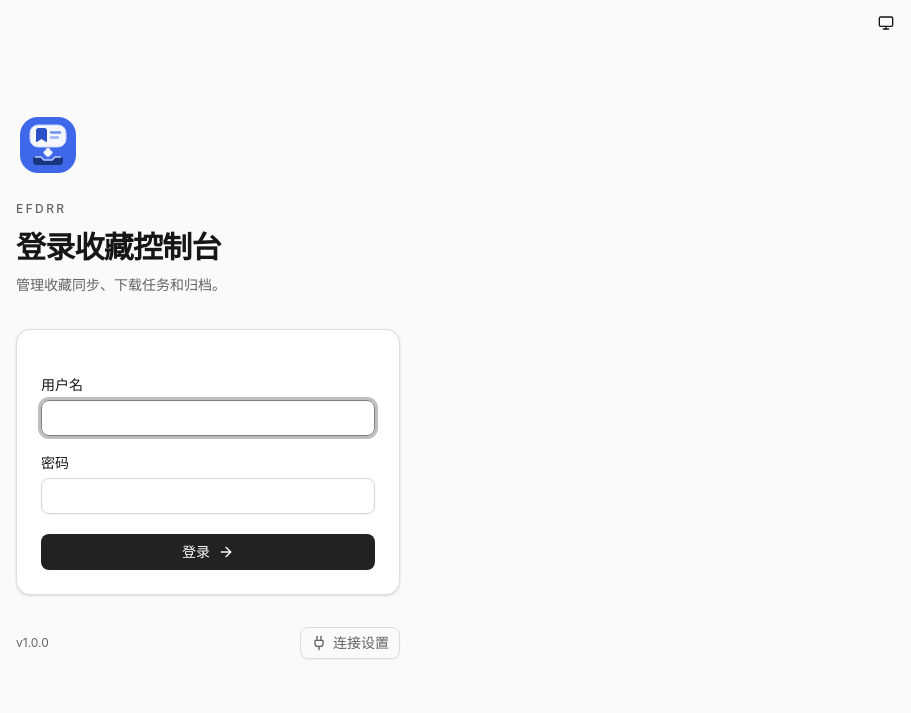
Test: failed login remains on the form
In the field labelled "用户名": point(208, 418) 41,400 -> 375,436, type "admin"
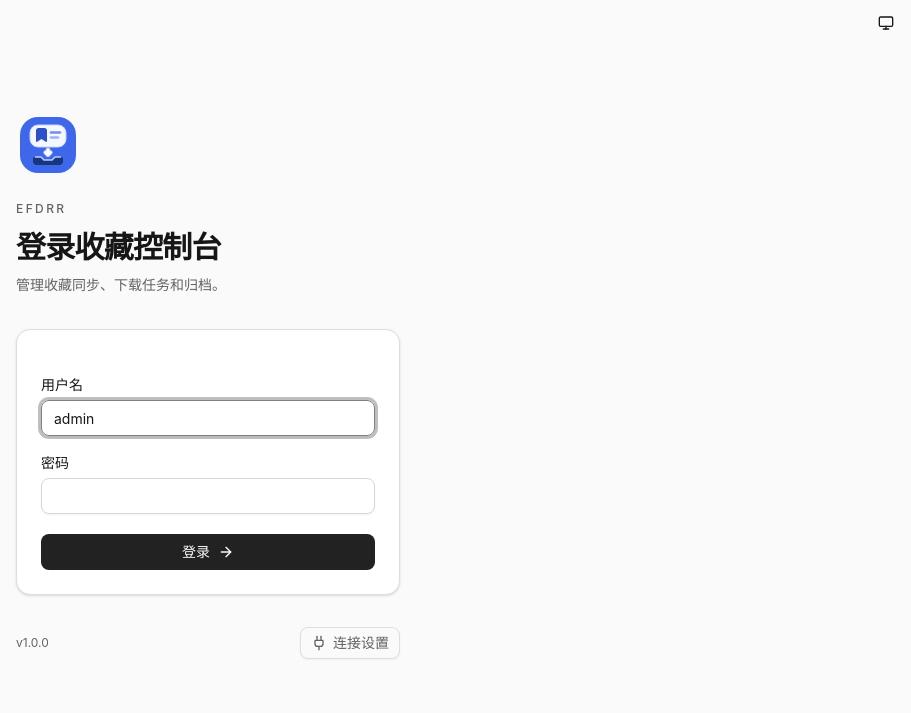
In the password field labelled "密码": point(208, 496) 41,478 -> 375,514, type "wrong"
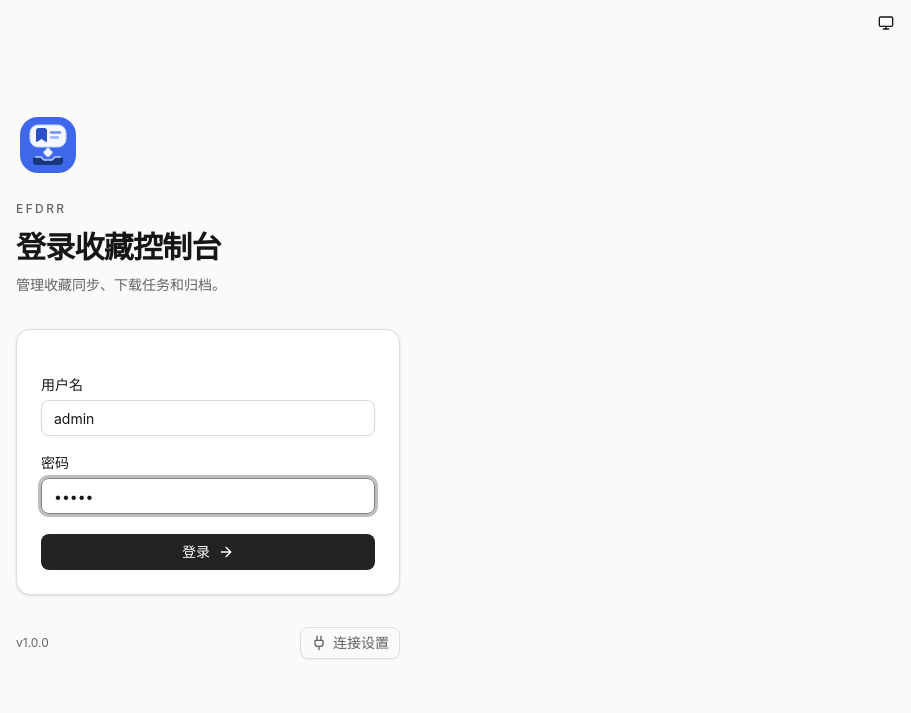
Click the button "登录": point(208, 552) 41,534 -> 375,570
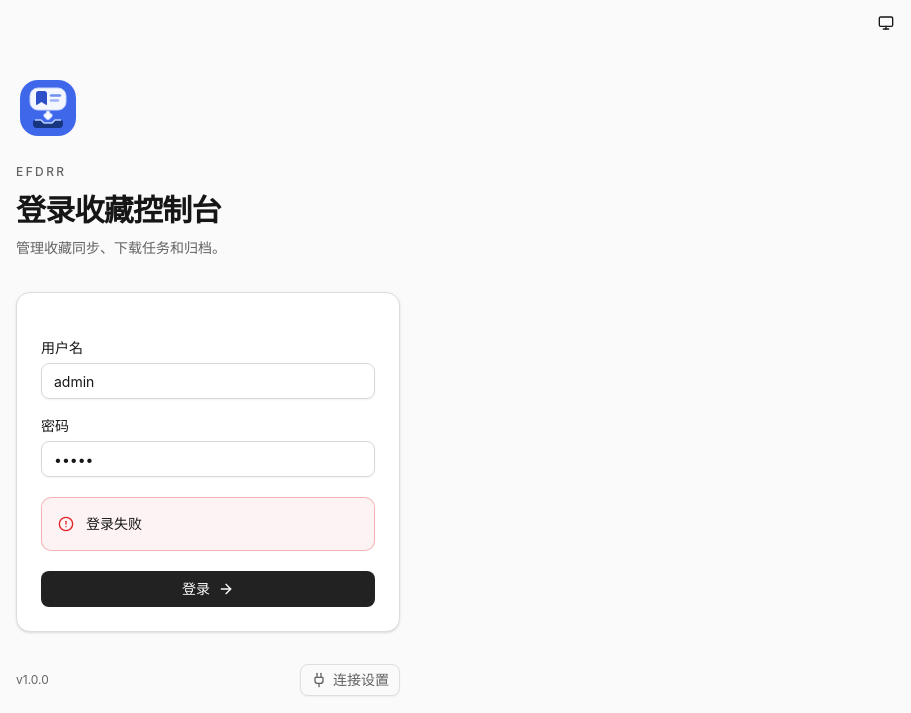
Check: the message reads "登录失败", box 86,515 -> 142,532
